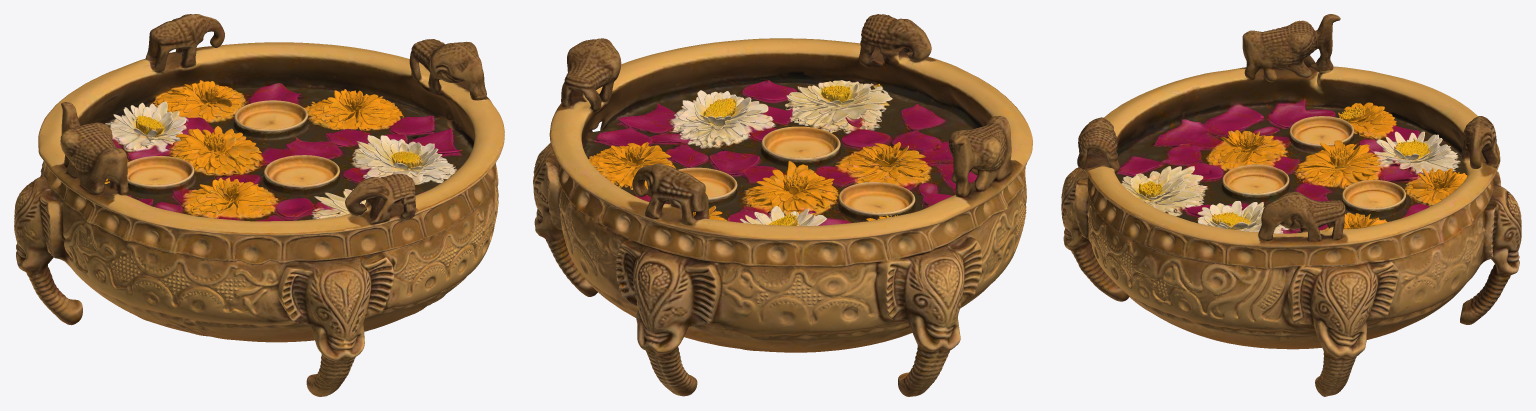
File: kansakruti-handmade-brass-elephant-urli-6-inch-flo-light.glb
3 views of the same model, side by side, from view 1: azimuth 30°, elevation 25°; view 2: azimuth 150°, elevation 25°; view 3: azimuth 270°, elevation 25° (orthographic). The views are drawn at different scales.
Size of the model in its own units: 1.87 by 1.01 by 1.9.
1 material, 1 textured.
